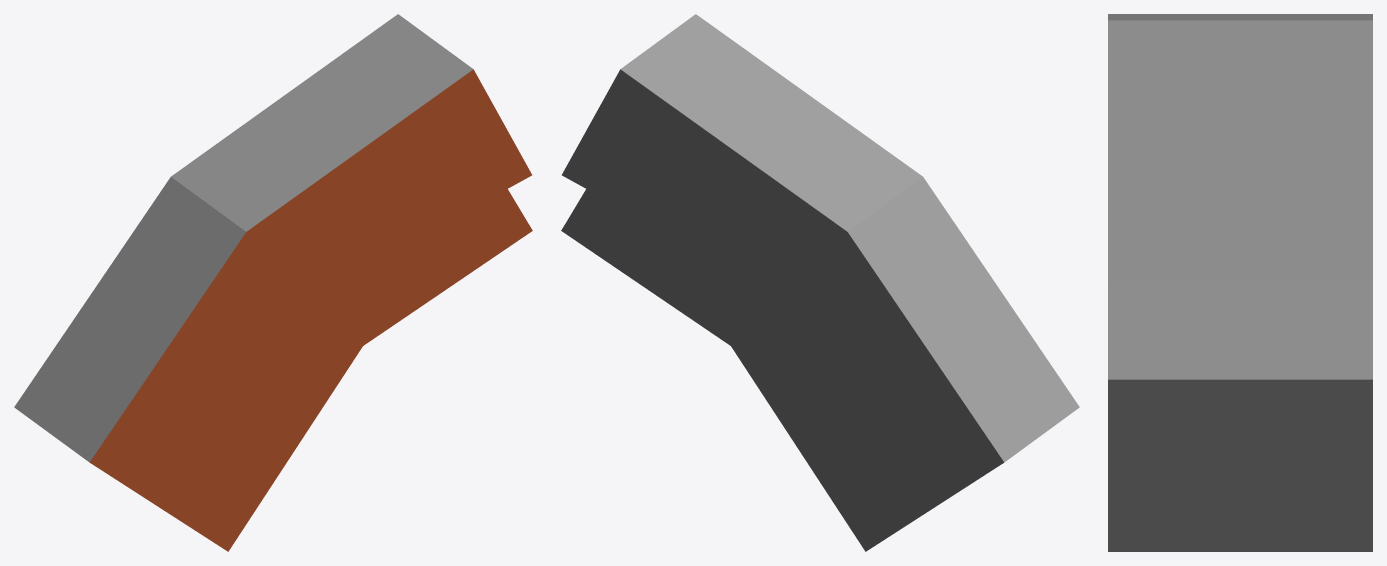
The model's file is construction_6629_assumed_A_Casa_h6m.obj.
3 renders of one model, left to right at view 1: azimuth 30°, elevation 25°; view 2: azimuth 150°, elevation 25°; view 3: azimuth 270°, elevation 25°, orthographic. The views are drawn at different scales.
Parts seen in each view (by area): view 1: construction_6629_assumed_A_Casa; view 2: construction_6629_assumed_A_Casa; view 3: construction_6629_assumed_A_Casa.
Part boxes in pixels (bbox=[...]): construction_6629_assumed_A_Casa: bbox=[14, 14, 532, 551]; construction_6629_assumed_A_Casa: bbox=[561, 14, 1079, 551]; construction_6629_assumed_A_Casa: bbox=[1108, 14, 1372, 551].
Bounding box in the file's own units: 20.34 × 18.54 × 6.
